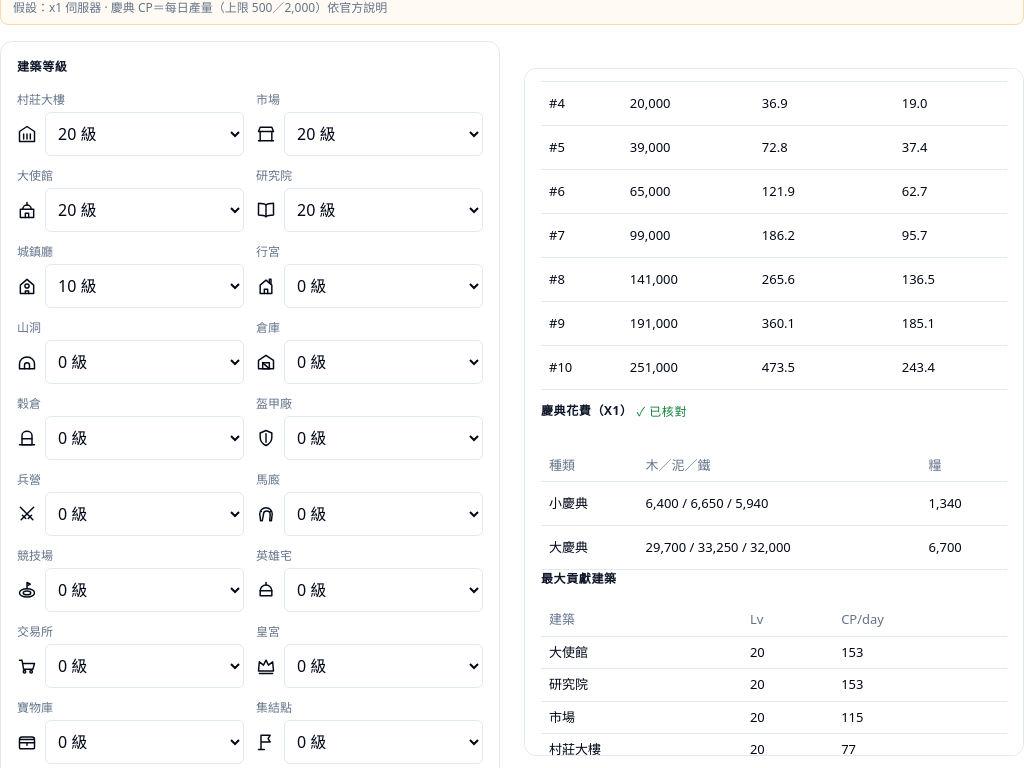
PassiveCpCalculator UI › celebration cost is ✓ 已核對 (two sources agree, 2026-10-11) and the note names both sources
This screenshot has width=1024, height=768.
(page scrolled)
Expected: the text "1,340" is shown, [920,482,1007,526]
Expected: the text "29,700 / 33,250 / 32,000" is shown, [638,526,921,570]
Click the button with test id "celebration-verified-mark": click(662, 412) [637,390,687,434]
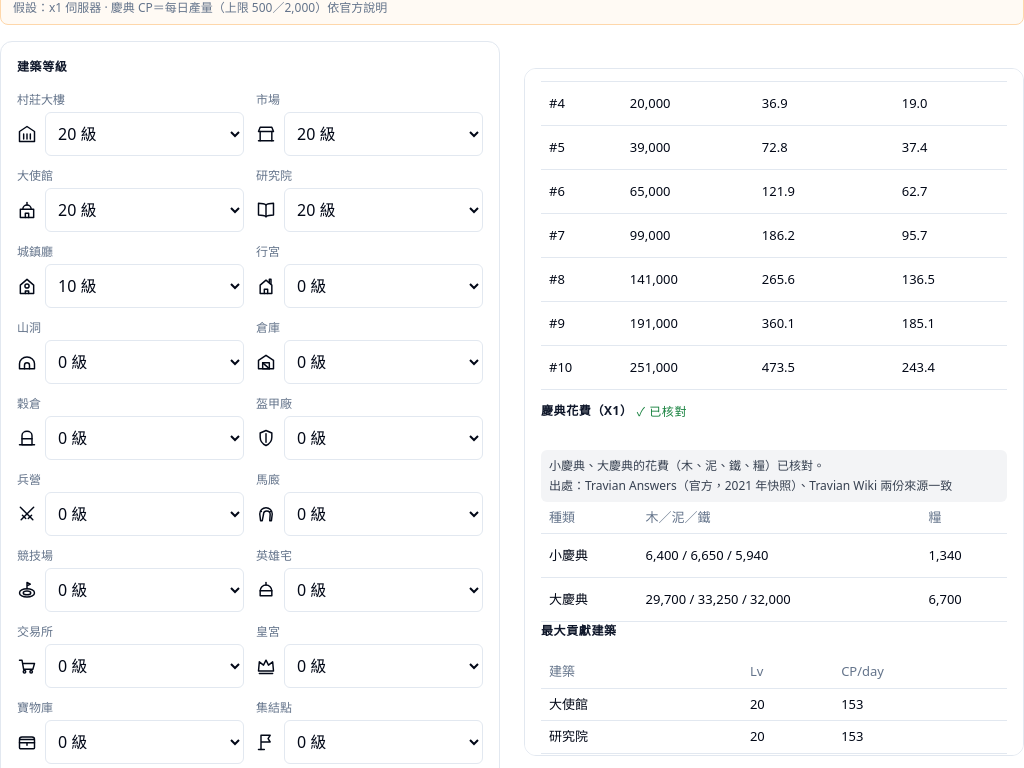
Result: the element with test id "pending-note-what" reads "小慶典、 大慶典的花費 （木、 泥、 鐵、 糧） 已核對。" at [549,456,825,474]
Result: the element with test id "pending-note-source" reads "出處：Travian Answers （官方， 2021 年快照）、 Travian Wiki 兩份來源一致" at [549,476,999,496]
